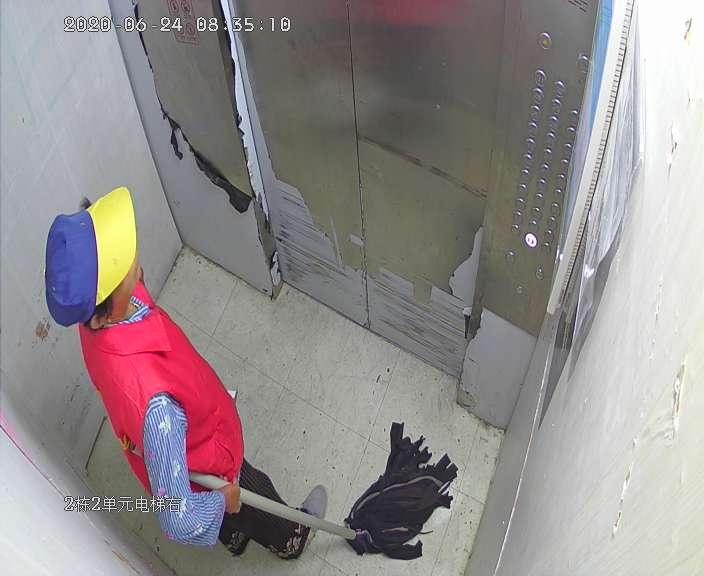person: (45, 188, 295, 559)
